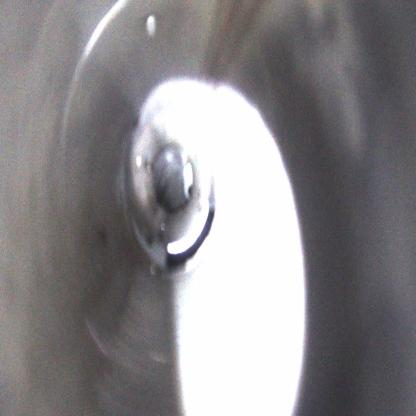Crack2: (166, 207, 218, 272)
